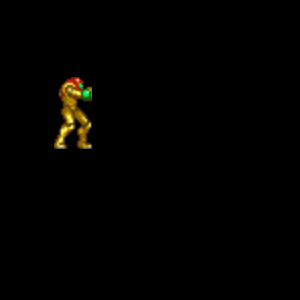Collectible: (54, 77, 92, 149)
